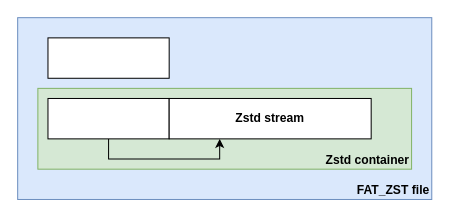
The diagram is 449 pixels wide and 217 high, and some of its shapes have lost their labels. The box of each missing label's shape, as (x1, y1, x2, y2) in pixels:
FileType.FAT_ZST: (47, 37, 169, 78)
Zstd stream size: (47, 97, 169, 139)
